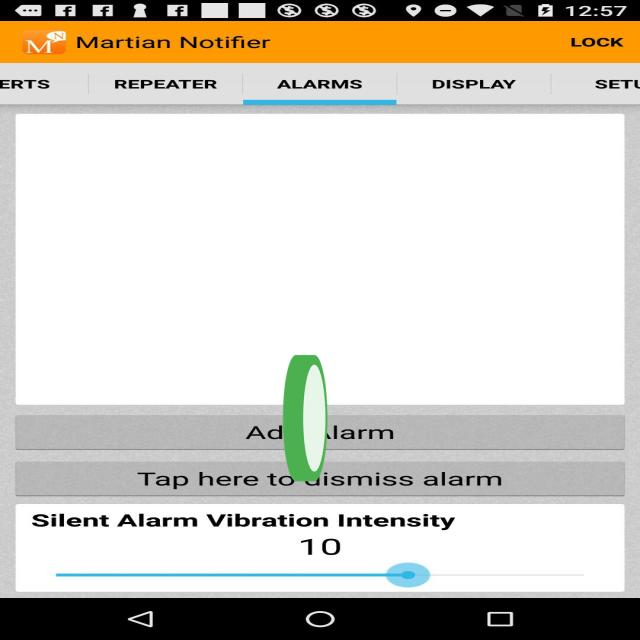social proof: (281, 306, 329, 540)
